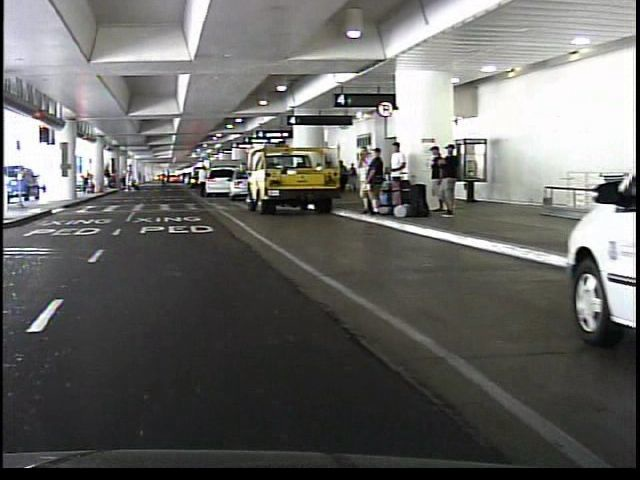person: (350, 142, 369, 214), (437, 143, 455, 216), (115, 162, 130, 196), (192, 165, 202, 198)
